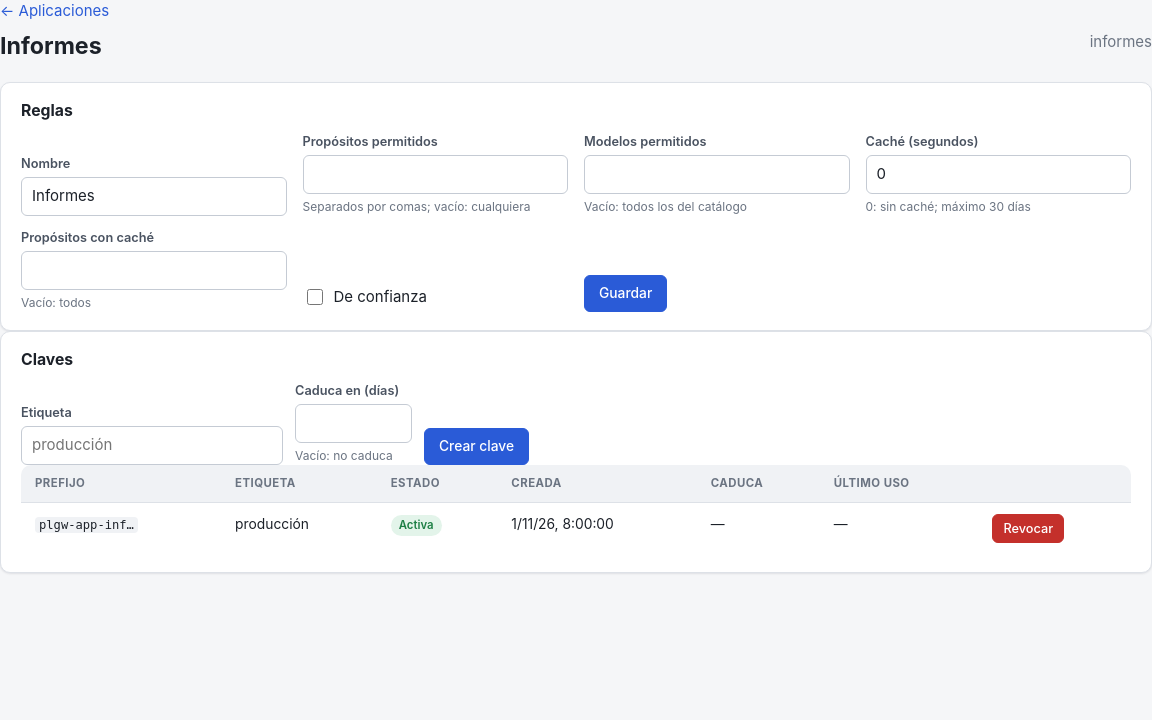
detalle de una aplicación › la clave nueva se enseña una vez y no queda en la lista
The image size is (1152, 720).
Type "nueva" into the field named "Etiqueta".
click(152, 446); type("nueva")  # box [21,426,283,465]
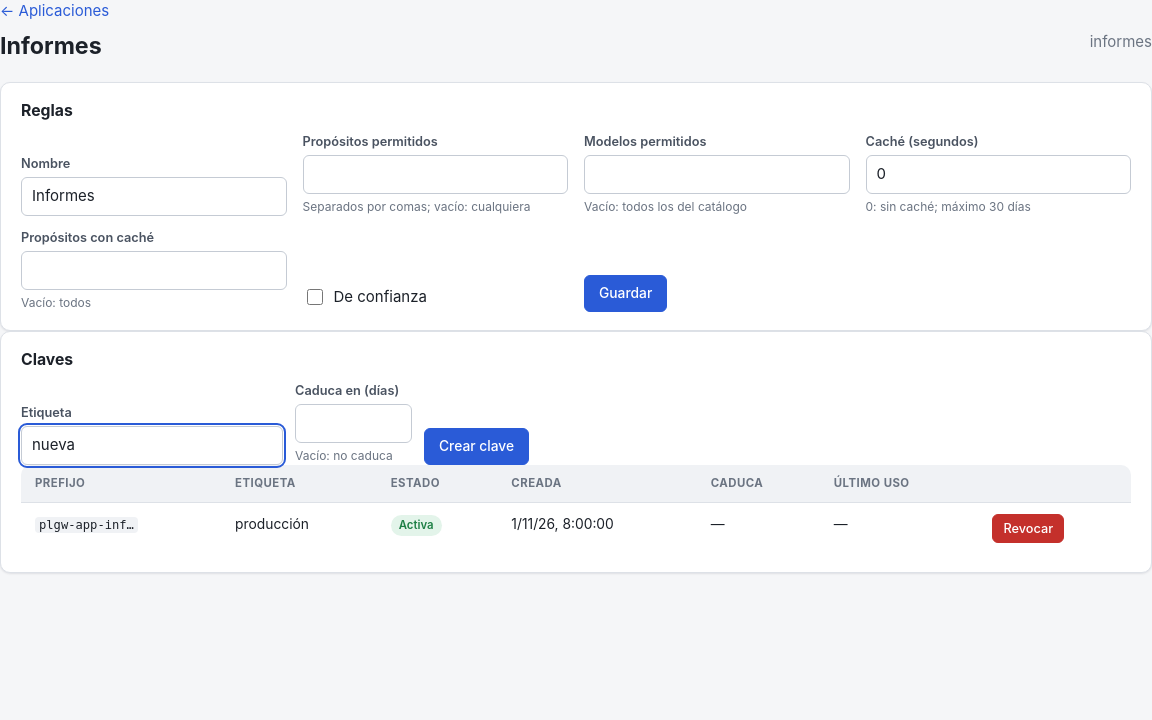
Click the button "Crear clave".
click(477, 446)  # box [424,428,529,465]
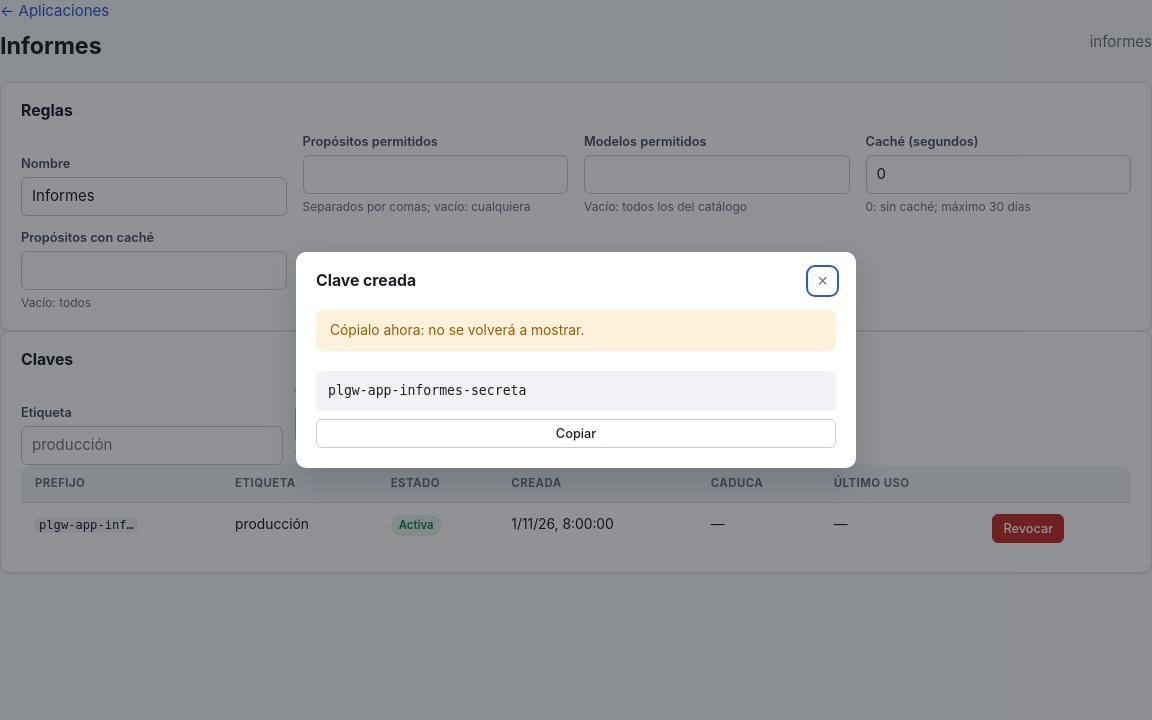
Expected: the text "plgw-app-informes-secreta" is shown, [316,371,836,411]
Expected: the text "Cópialo ahora: no se volverá a mostrar." is shown, [316,310,836,351]
Click the button named "Cerrar".
click(823, 281)  # box [810,268,836,294]
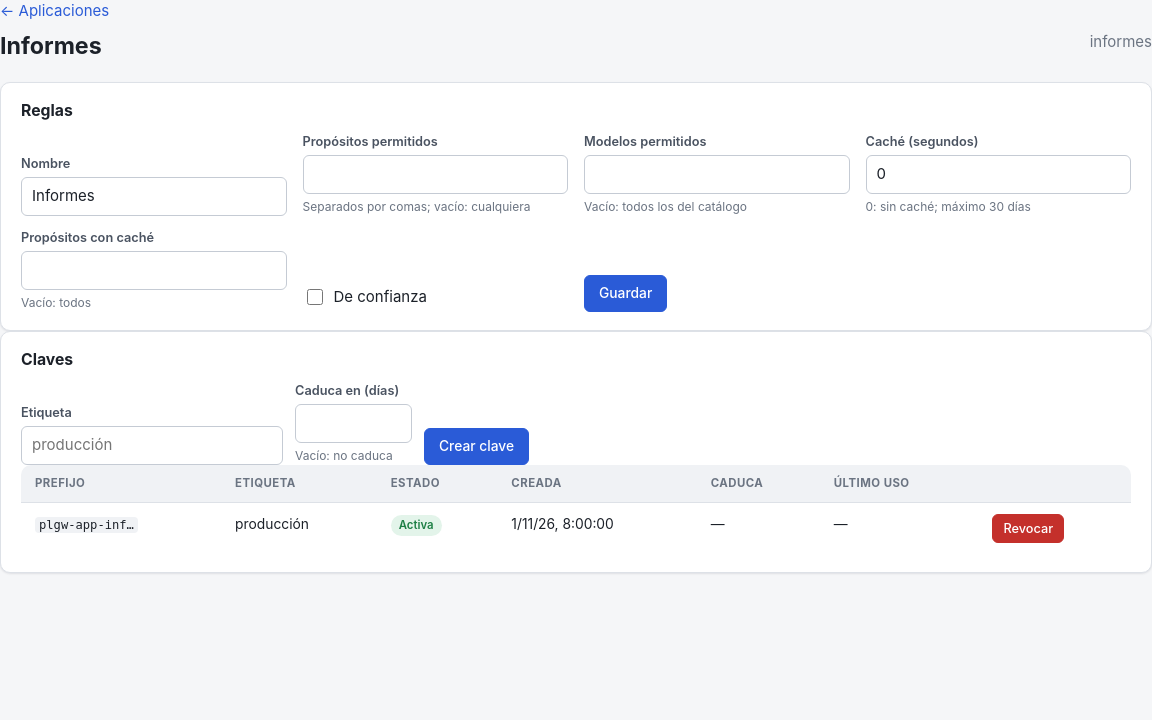
Expected: the text "plgw-app-informes-secreta" is gone
